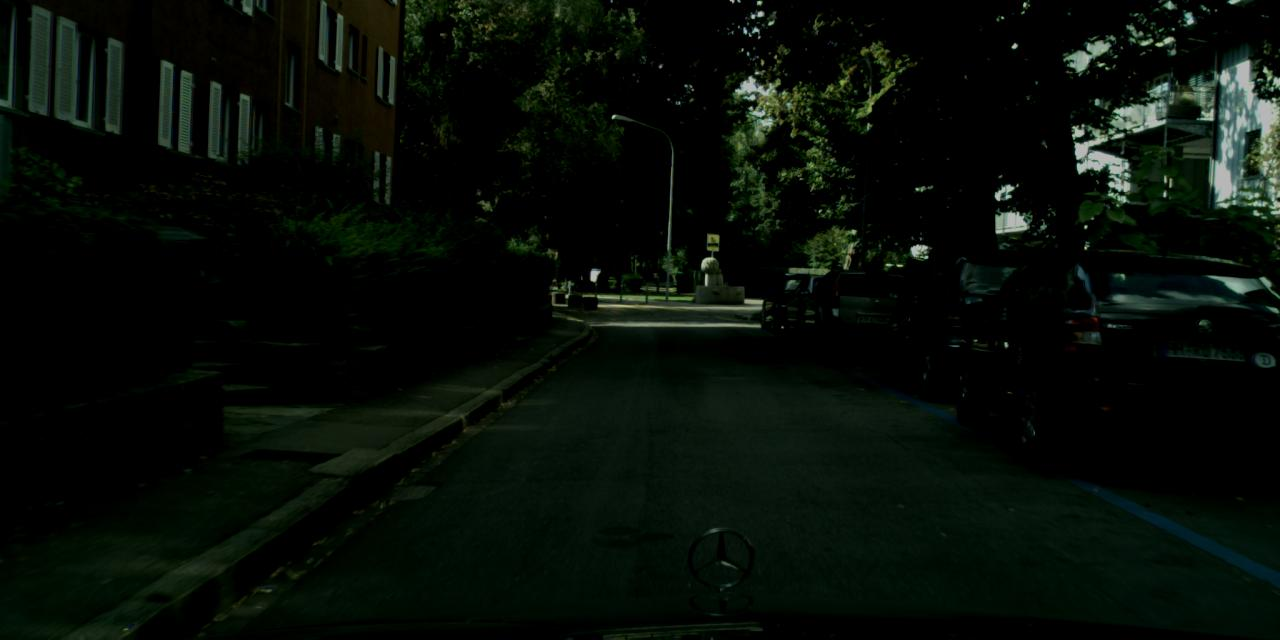ped: (674, 268, 684, 291), (652, 271, 657, 283)
